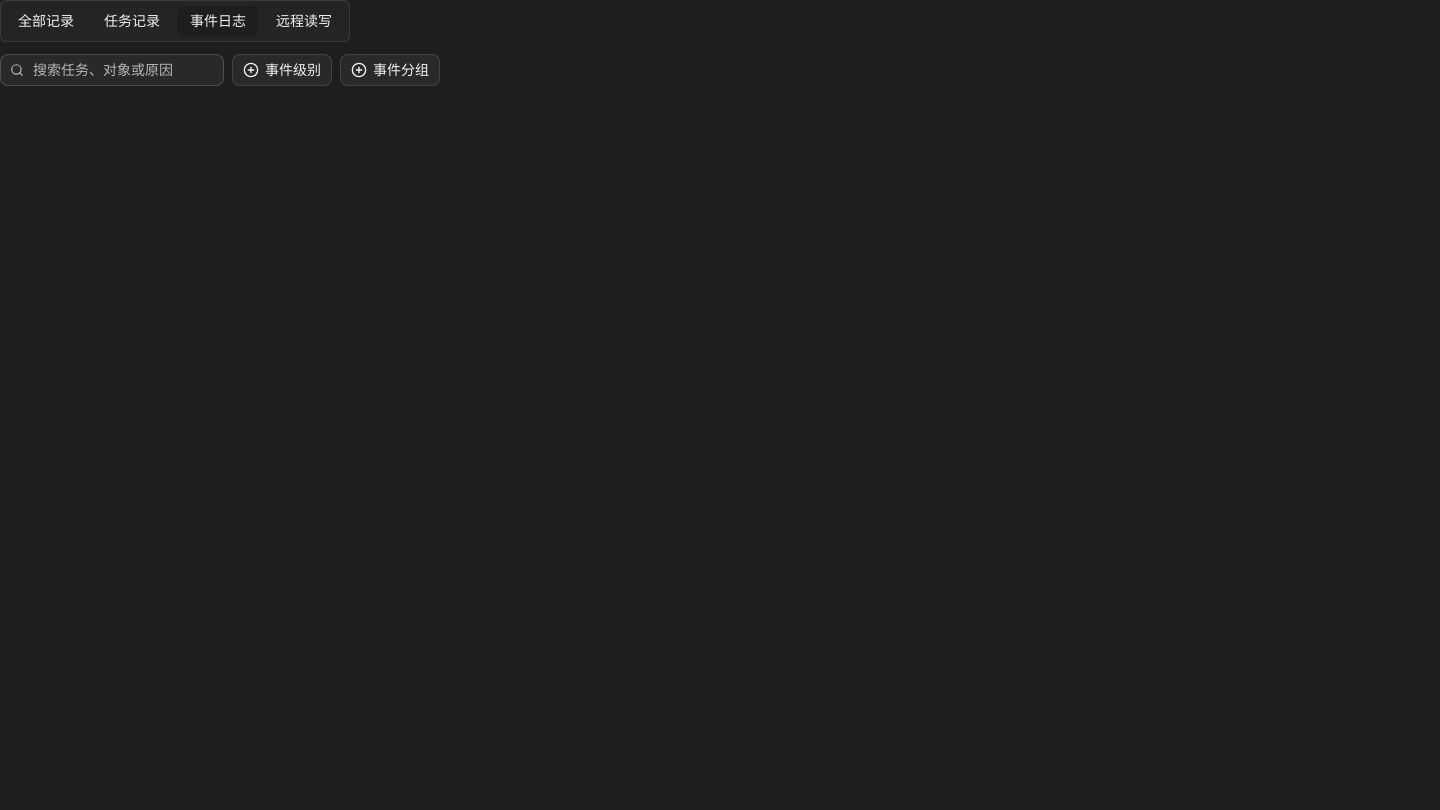
Scenario: 事件分组筛选按稳定 ID 消费字典逆序
The image size is (1440, 810).
Step 1. Click the button with aria-label "事件分组筛选" → point(390, 70), box x1=340 y1=54 x2=440 y2=86
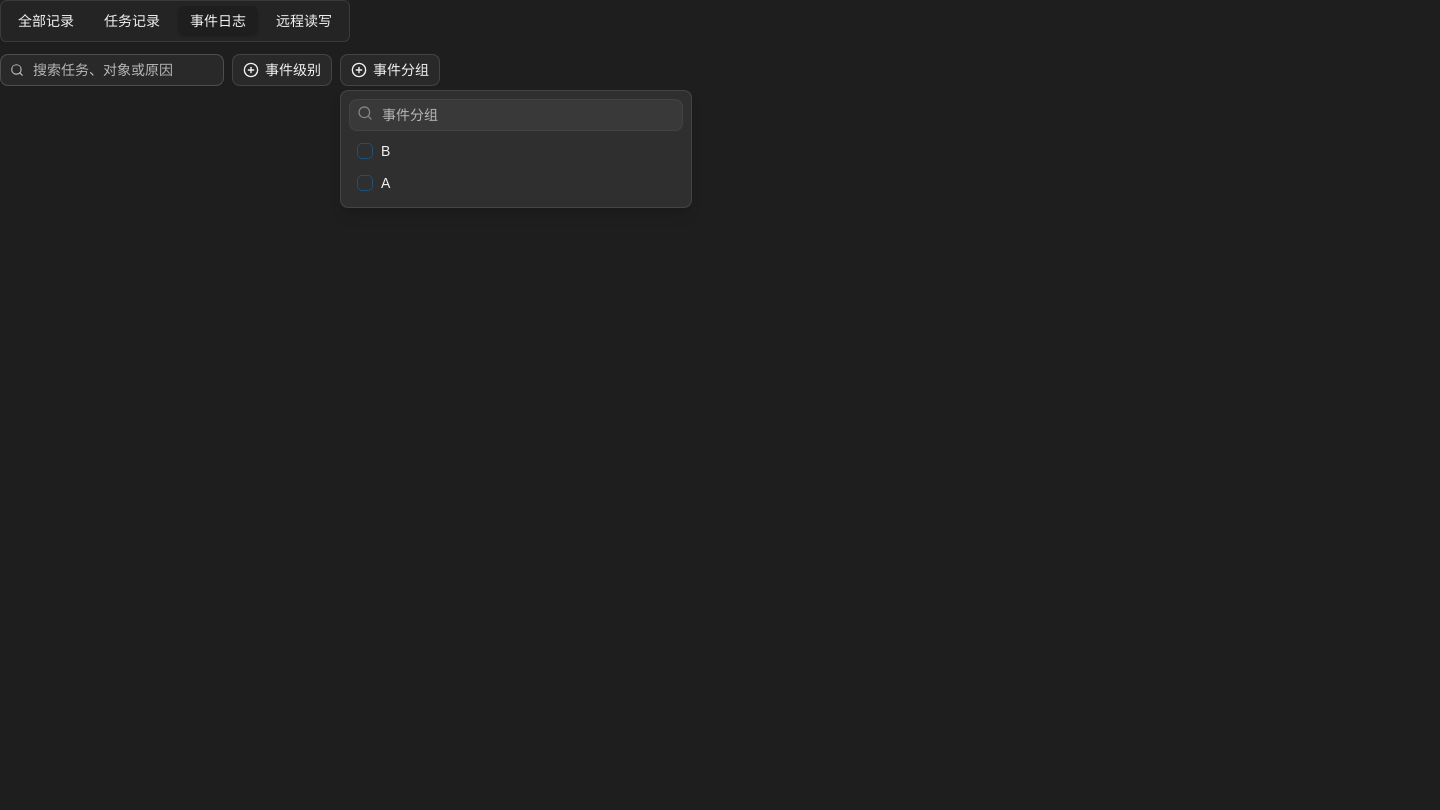
Expected: the options read "B", "A", in this order, x1=349 y1=135 x2=683 y2=167; x1=349 y1=167 x2=683 y2=199
